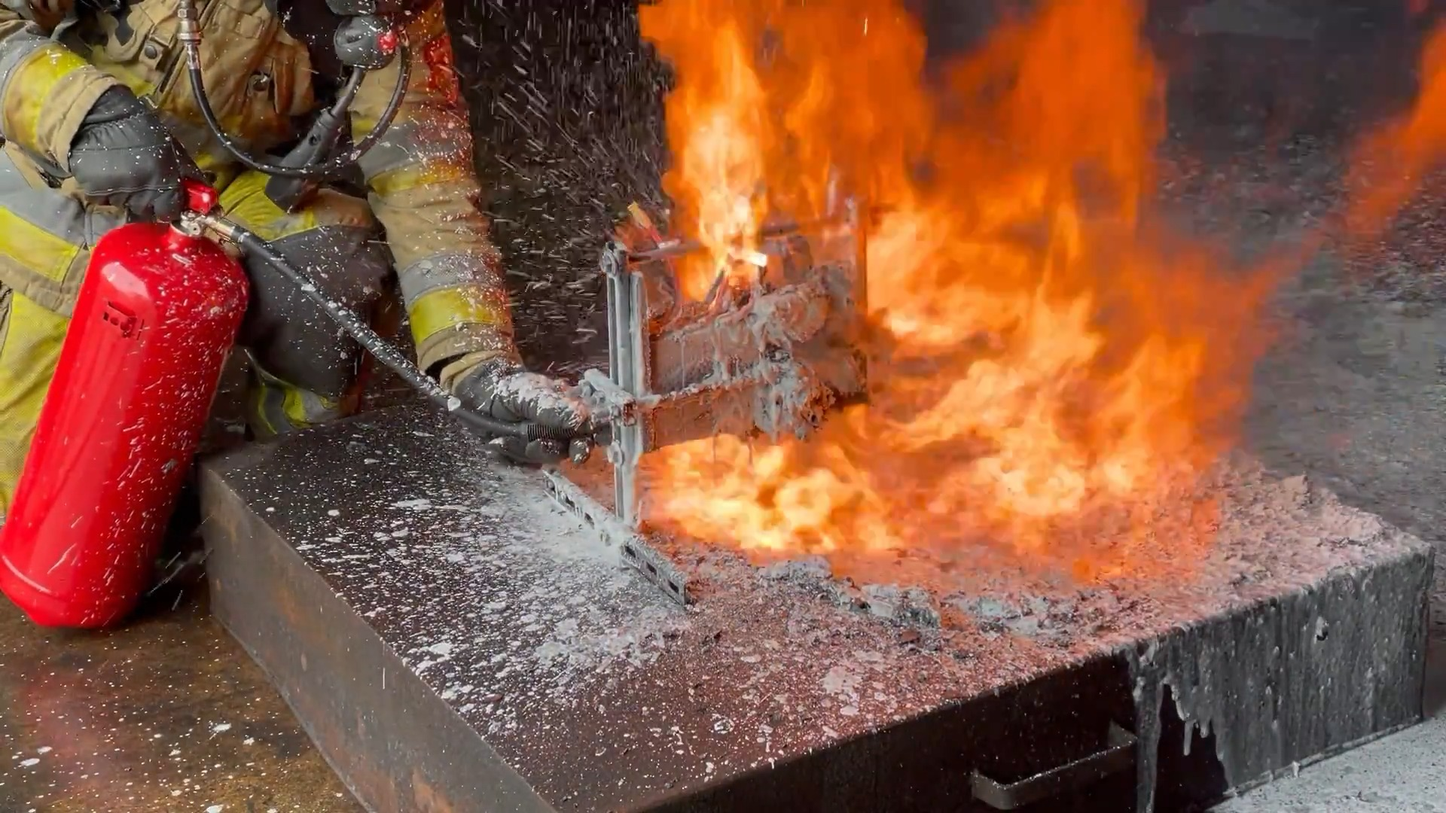fire: (620, 0, 1446, 590)
